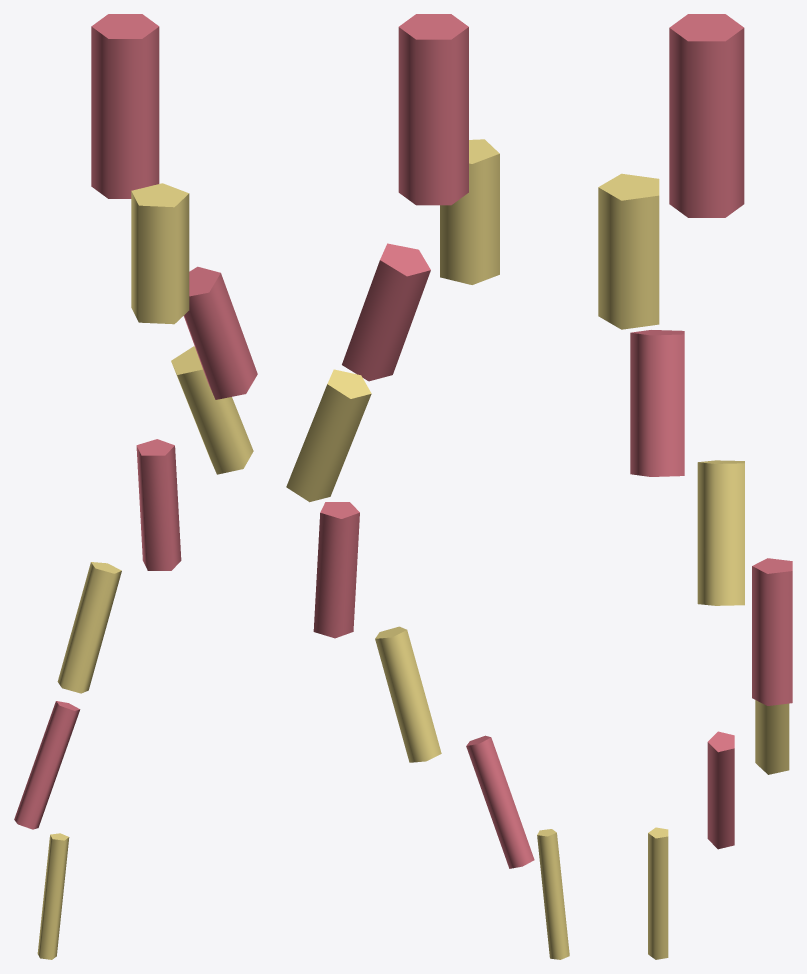
Rendered from kilim.glb.
3 views of the same model, side by side, from view 1: azimuth 30°, elevation 25°; view 2: azimuth 150°, elevation 25°; view 3: azimuth 270°, elevation 25° (orthographic). The views are drawn at different scales.
Bounding box in the file's own units: 0.409 × 1.45 × 0.2597.
